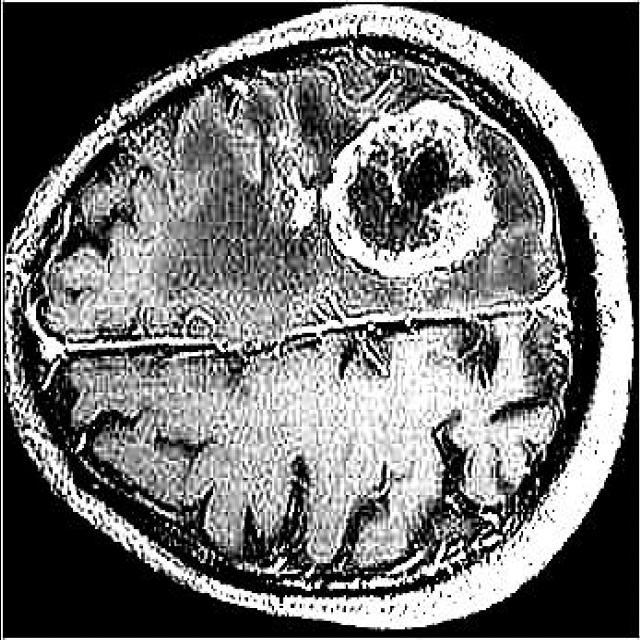tumor: (310, 98, 500, 279)
